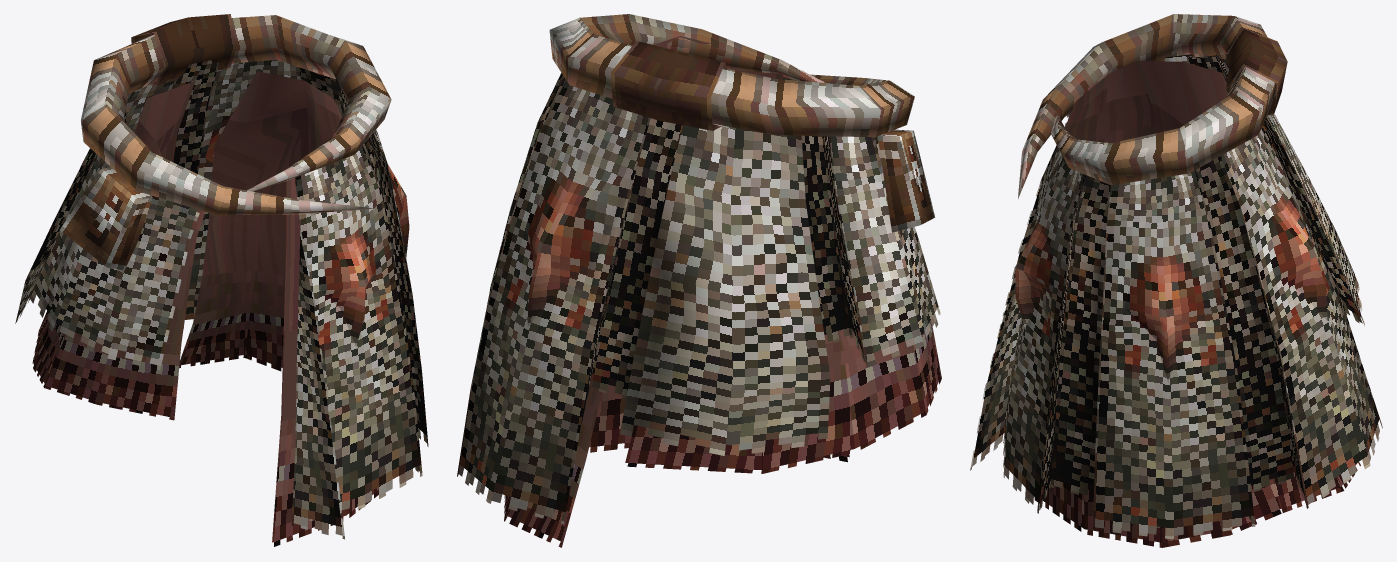
3 renders of one model, left to right at view 1: azimuth 30°, elevation 25°; view 2: azimuth 150°, elevation 25°; view 3: azimuth 270°, elevation 25°, orthographic. The views are drawn at different scales.
Visible parts, largest first — view 1: mesh00; view 2: mesh00; view 3: mesh00.
Boxes of the visible parts, x1,y1,x2,y2 form: mesh00: (15, 14, 428, 546); mesh00: (457, 14, 941, 547); mesh00: (970, 14, 1382, 547).
Bounding box in the file's own units: 65.39 × 72.54 × 62.59.
Materials: 1 (1 with a texture image).
